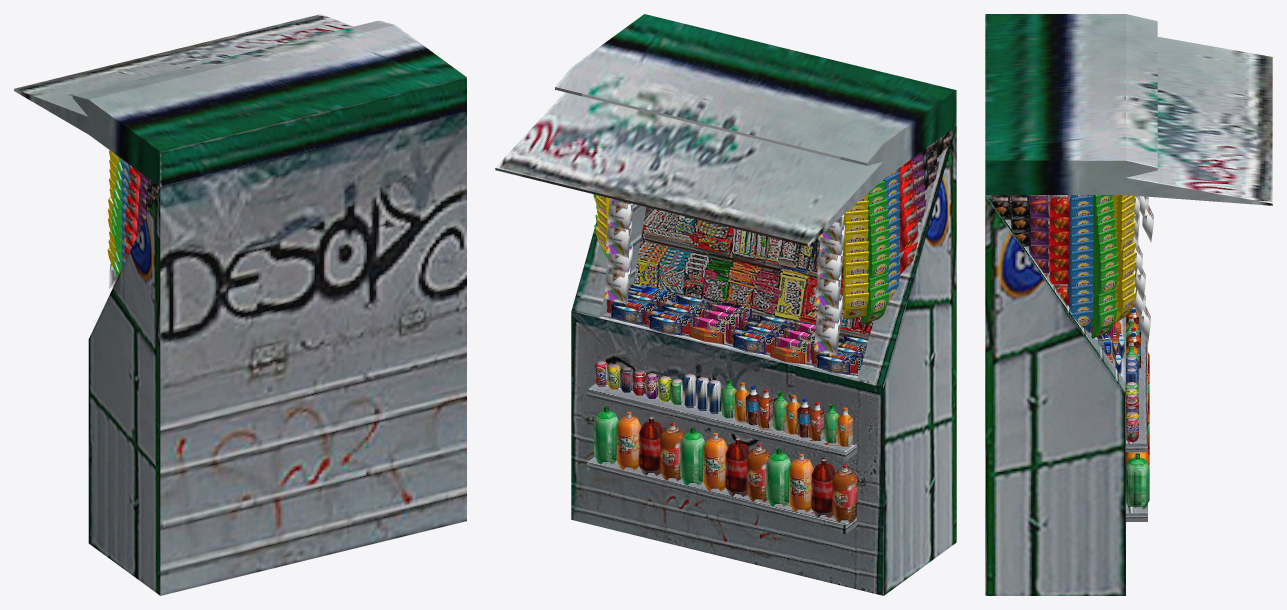
Rendered from kiosco.fbx.
3 views of the same model, side by side, from view 1: azimuth 30°, elevation 25°; view 2: azimuth 150°, elevation 25°; view 3: azimuth 270°, elevation 25° (orthographic). The views are drawn at different scales.
Parts seen in each view (by area): view 1: Cube.570, Cube.043, food_snack_chips_2.041, food_snack_chips_1.026, food_snack_chips_3.030; view 2: Cube.570, Cube.072, food_snack_chips_1.026, food_snack_chips_2.041, Cube.034, Cube.043, food_snack_chips_3.030, Cylinder.007, Cylinder.034, Cylinder.002, Cylinder.001, Cylinder.008 (+8 smaller); view 3: Cube.570, food_snack_chips_2, food_snack_chips_3.045, food_snack_chips_1.039, Cube.064, Cube.059, Cube.034, Cylinder.033, Cube.015, Cube.072.
Boxes of the visible parts, bbox=[...] form: Cube.570: bbox=[14, 14, 466, 595]; Cube.043: bbox=[124, 165, 140, 261]; food_snack_chips_2.041: bbox=[111, 157, 123, 278]; food_snack_chips_1.026: bbox=[107, 150, 120, 269]; food_snack_chips_3.030: bbox=[121, 159, 130, 269]; Cube.570: bbox=[495, 14, 956, 595]; Cube.072: bbox=[814, 217, 844, 355]; food_snack_chips_1.026: bbox=[842, 193, 868, 318]; food_snack_chips_2.041: bbox=[862, 180, 890, 324]; Cube.034: bbox=[604, 198, 632, 304]; Cube.043: bbox=[898, 160, 917, 274]; food_snack_chips_3.030: bbox=[883, 168, 900, 302]; Cylinder.007: bbox=[832, 464, 857, 522]; Cylinder.034: bbox=[616, 411, 641, 469]; Cylinder.002: bbox=[680, 427, 705, 485]; Cylinder.001: bbox=[703, 432, 727, 491]; Cylinder.008: bbox=[766, 448, 791, 506]; Cube.570: bbox=[985, 14, 1272, 595]; food_snack_chips_2: bbox=[1090, 195, 1118, 338]; food_snack_chips_3.045: bbox=[1068, 195, 1093, 332]; food_snack_chips_1.039: bbox=[1112, 195, 1136, 323]; Cube.064: bbox=[1048, 195, 1069, 305]; Cube.059: bbox=[1029, 195, 1049, 277]; Cube.034: bbox=[1133, 195, 1150, 343]; Cylinder.033: bbox=[1126, 453, 1149, 508]; Cube.015: bbox=[1010, 195, 1030, 246]; Cube.072: bbox=[1139, 196, 1153, 242].
Bounding box in the file's own units: 361 × 500 × 299.
Materials: 169 (169 with a texture image).
